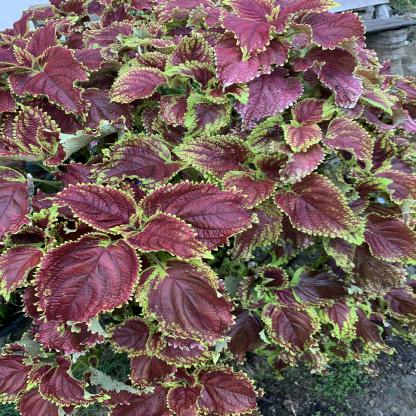Bunga Coleus: (12, 15, 411, 400)
